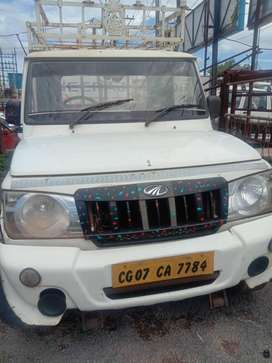CG07CA7784: (111, 247, 212, 288)
